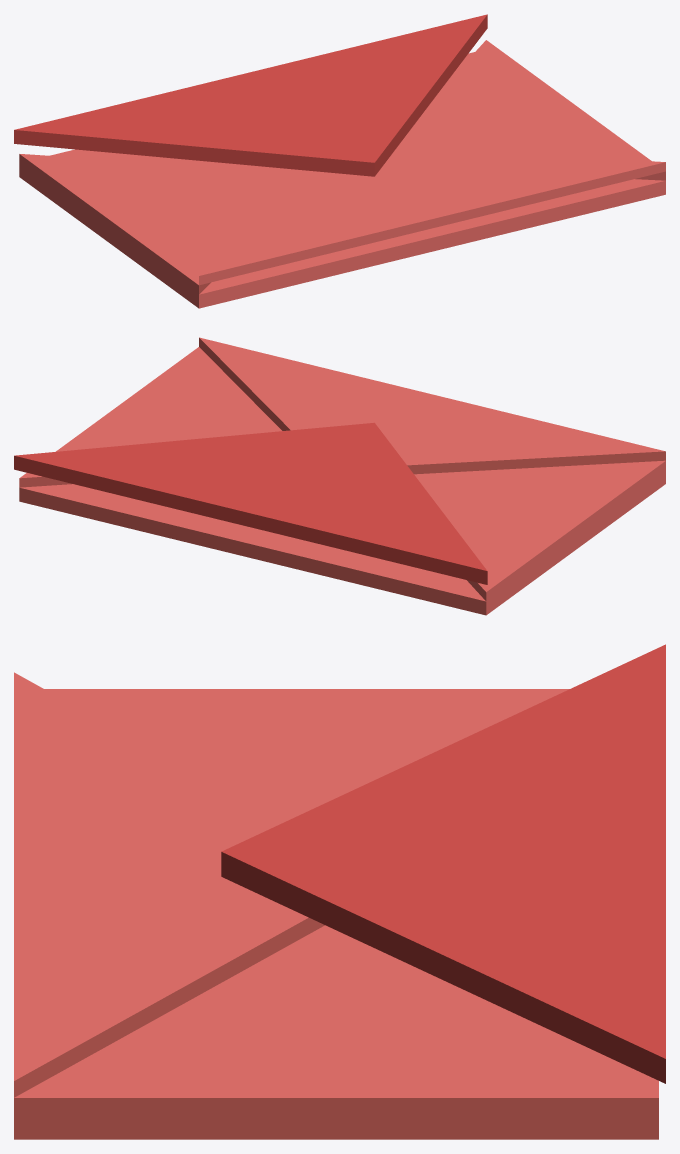
Rendered from item_token.glb.
3 views of the same model, one above another, from view 1: azimuth 30°, elevation 25°; view 2: azimuth 150°, elevation 25°; view 3: azimuth 270°, elevation 25° (orthographic). The views are drawn at different scales.
Parts seen in each view (by area): view 1: token; view 2: token; view 3: token.
Part boxes in pixels (left/top/right/bottom): token: left=14, top=14, right=665, bottom=308; token: left=14, top=337, right=665, bottom=615; token: left=14, top=644, right=665, bottom=1139.
Bounding box in the file's own units: 0.0426 × 0.004 × 0.0283.
